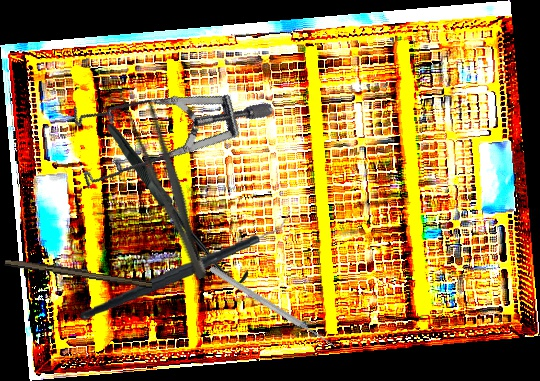Chopper: (73, 208, 299, 322)
Dressing Forceps: (117, 90, 218, 284)
Hook Surgical: (102, 124, 254, 283)
Pusher: (207, 264, 339, 351)
Scalpel Handle: (3, 256, 154, 289)
Speculum: (48, 38, 277, 242)
